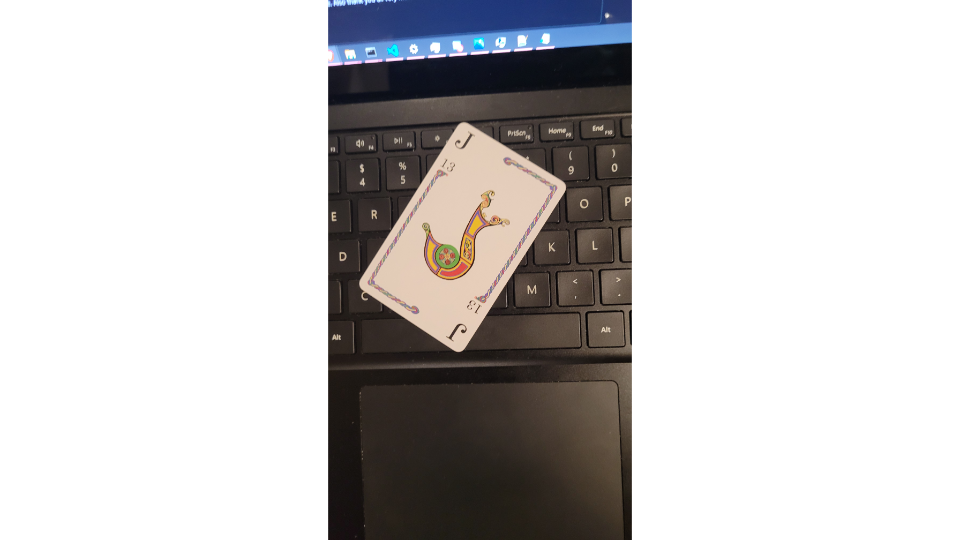J: (357, 117, 570, 354)
